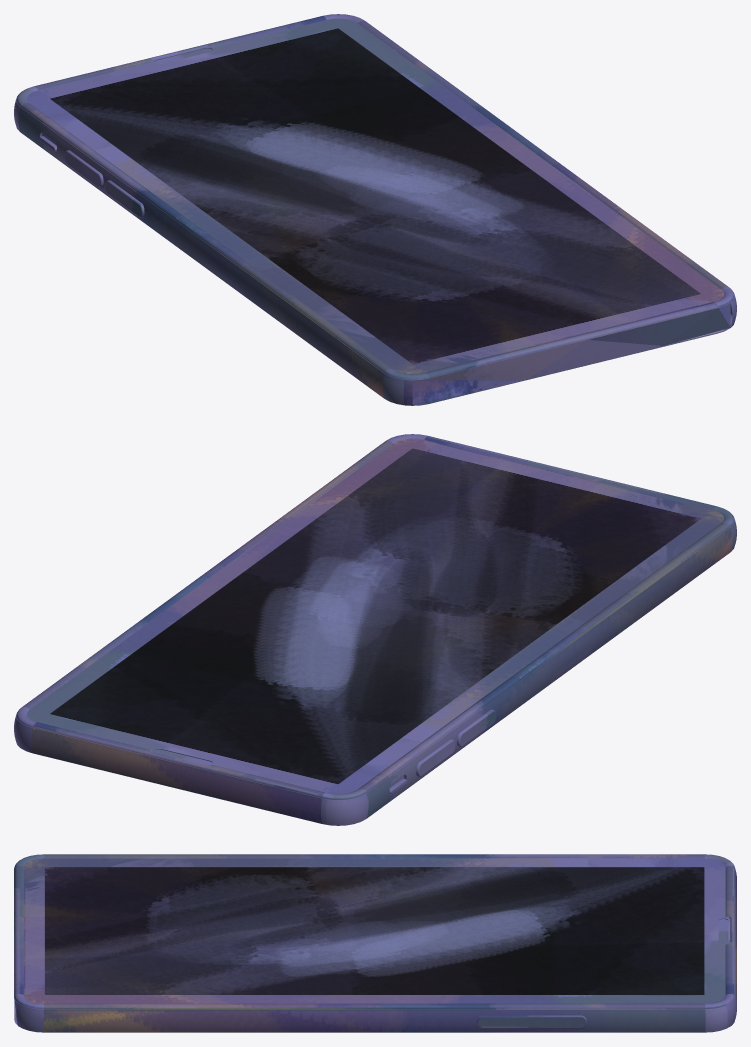
Rendered from LO_phone.glb.
The picture shows the model from 3 angles, top to bottom: view 1: azimuth 30°, elevation 25°; view 2: azimuth 150°, elevation 25°; view 3: azimuth 270°, elevation 25°; orthographic projection. The views are drawn at different scales.
Parts seen in each view (by area): view 1: Phone XR; view 2: Phone XR; view 3: Phone XR.
Part boxes in pixels (<box>): Phone XR: <box>14,14,736,405</box>; Phone XR: <box>14,434,736,825</box>; Phone XR: <box>14,854,736,1032</box>.
Size of the model in its own units: 0.078 by 0.00706 by 0.1516.
Materials: 1 (1 with a texture image).
